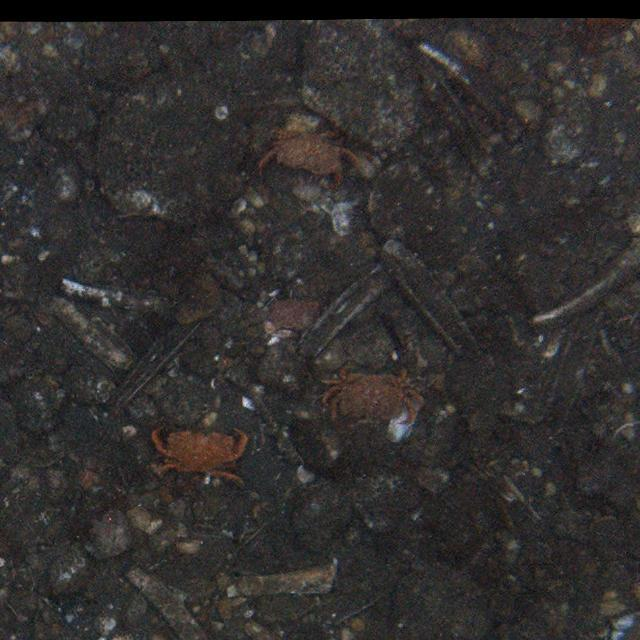crab: (316, 360, 422, 424), (266, 119, 358, 192), (148, 421, 250, 483)
